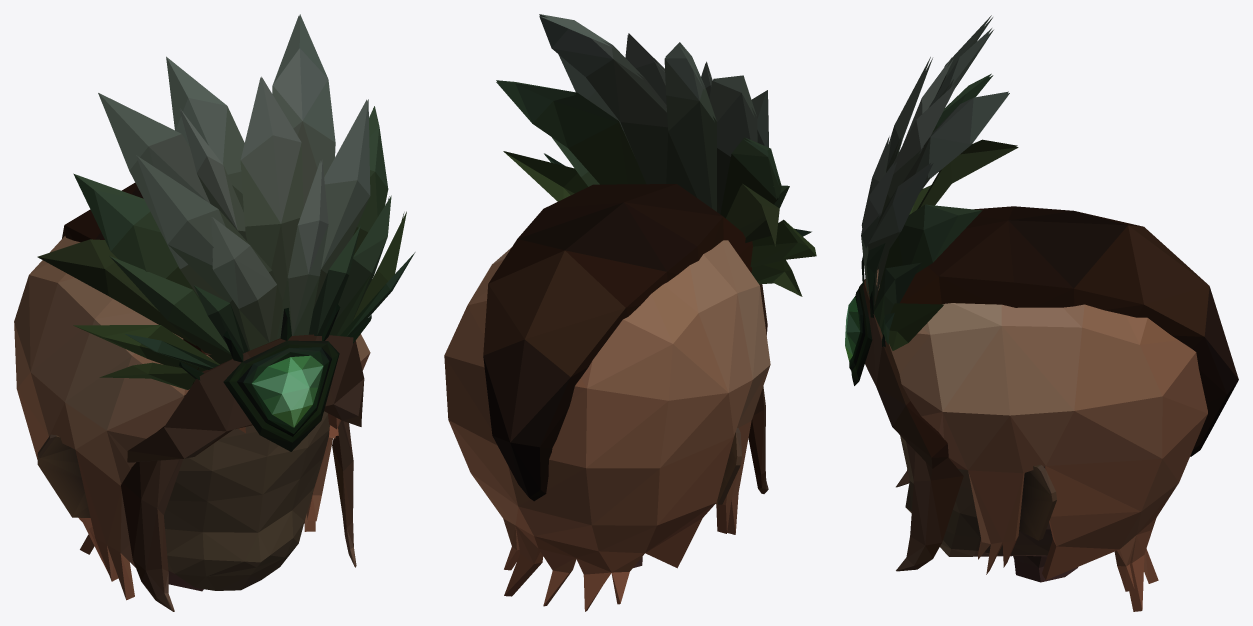
Rendered from helm_darkskin_standard_blonde_headress.fbx.
3 views of the same model, side by side, from view 1: azimuth 30°, elevation 25°; view 2: azimuth 150°, elevation 25°; view 3: azimuth 270°, elevation 25° (orthographic). The views are drawn at different scales.
Parts seen in each view (by area): view 1: helm_darkskin_standard_blonde_headress; view 2: helm_darkskin_standard_blonde_headress; view 3: helm_darkskin_standard_blonde_headress.
Boxes of the visible parts, box(x1,y1,x2,y2) form: helm_darkskin_standard_blonde_headress: box(14, 14, 415, 611); helm_darkskin_standard_blonde_headress: box(444, 14, 816, 611); helm_darkskin_standard_blonde_headress: box(845, 15, 1238, 611).
Size of the model in its own units: 1.29 by 2.09 by 1.39.
